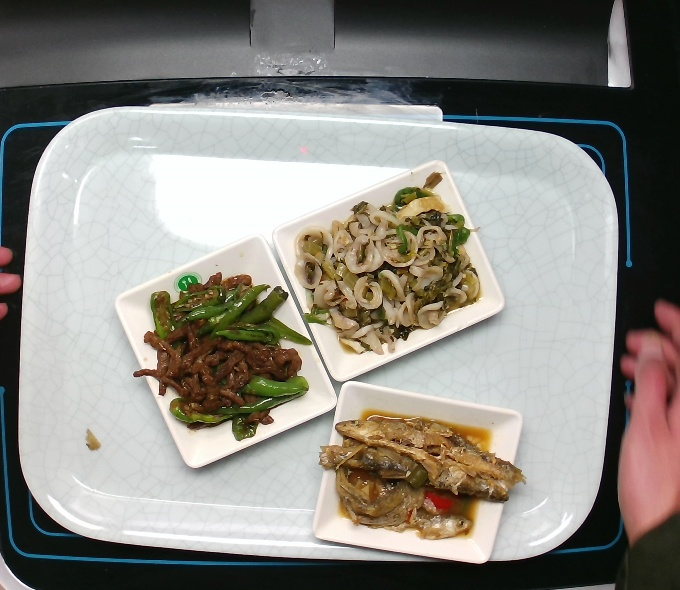wcq-QingJiaoNiuRou: (136, 266, 323, 451)
wcq-XiaoXiYu: (316, 402, 526, 547)
wcq-XueCaiYouYu: (291, 167, 485, 359)
